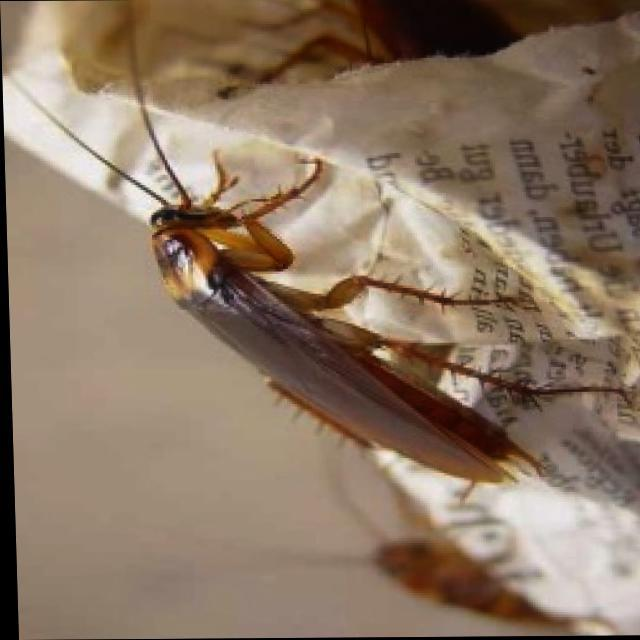cockroach: (116, 131, 526, 567)
